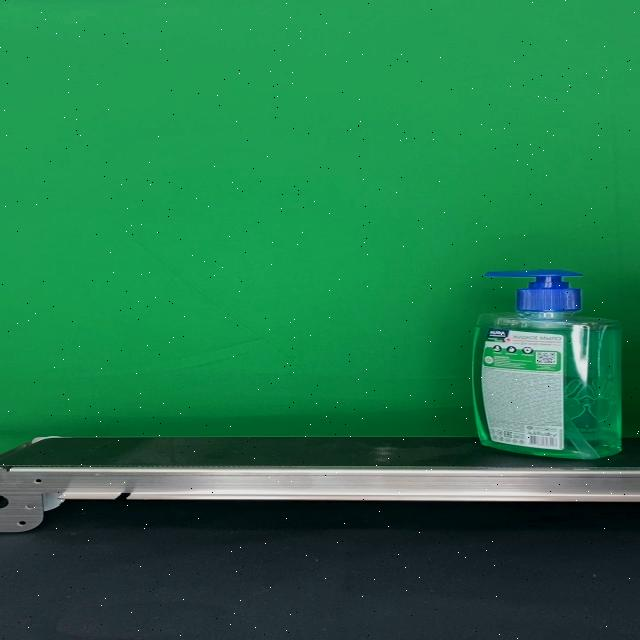Bottle: (472, 270, 622, 459)
Cap: (484, 270, 585, 312)
